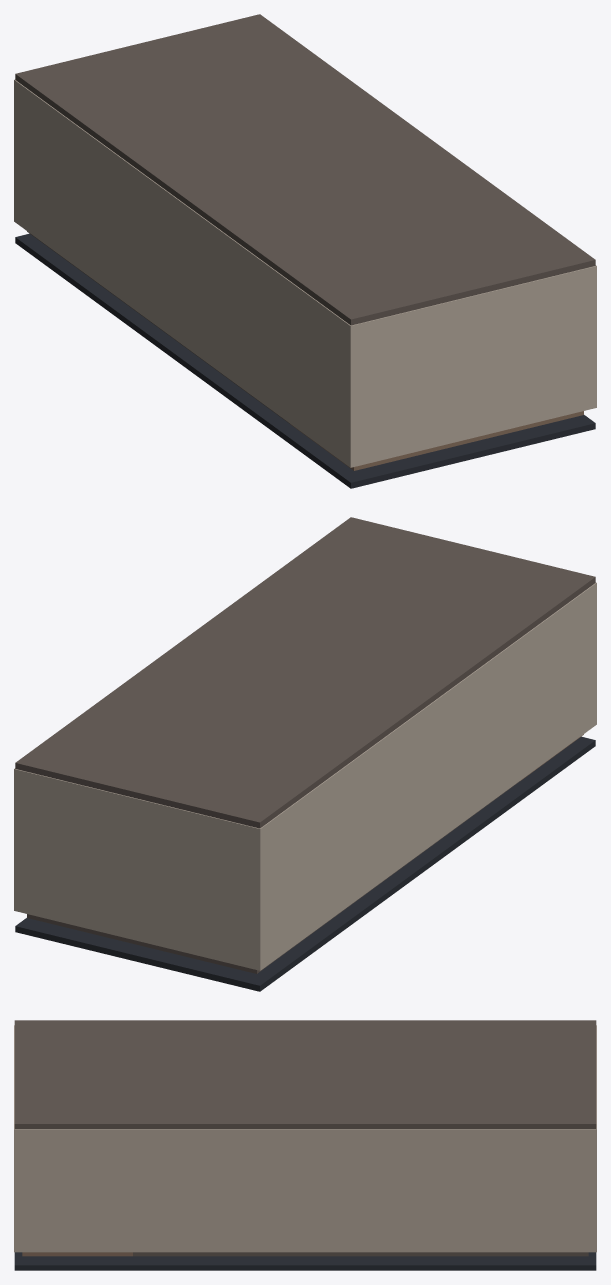
Rendered from BowlingRoom.fbx.
3 renders of one model, top to bottom at view 1: azimuth 30°, elevation 25°; view 2: azimuth 150°, elevation 25°; view 3: azimuth 270°, elevation 25°, orthographic. The views are drawn at different scales.
Parts seen in each view (by area): view 1: Room_Ceiling, Room_Left_Wall, Room_Front_Wall, Room_Subfloor, Room_Front_Player_Floor, Room_Rear_Wall; view 2: Room_Ceiling, Room_Left_Wall, Room_Rear_Wall, Room_Subfloor, Room_Rear_Floor, Room_Front_Wall; view 3: Room_Right_Wall, Room_Ceiling, Room_Subfloor, Room_Right_Walkway, Room_Front_Wall, Room_Rear_Wall, Room_Front_Player_Floor.
Part boxes in pixels (x1,y1,x2,y2): Room_Ceiling: (15,14,595,325); Room_Left_Wall: (18,83,346,464); Room_Front_Wall: (346,265,596,467); Room_Subfloor: (15,233,595,488); Room_Front_Player_Floor: (290,411,583,470); Room_Rear_Wall: (14,79,18,224); Room_Ceiling: (15,517,595,828); Room_Left_Wall: (264,586,592,967); Room_Rear_Wall: (14,768,264,970); Room_Subfloor: (15,736,595,991); Room_Rear_Floor: (27,914,268,973); Room_Front_Wall: (592,582,596,727); Room_Right_Wall: (22,1129,588,1252); Room_Ceiling: (14,1020,596,1128); Room_Subfloor: (14,1252,596,1270); Room_Right_Walkway: (133,1252,568,1256); Room_Front_Wall: (14,1025,22,1252); Room_Rear_Wall: (588,1025,596,1252); Room_Front_Player_Floor: (22,1252,132,1256).
Size of the model in its own units: 6 by 3.94 by 14.2.
Materials: 8 (5 with a texture image).
